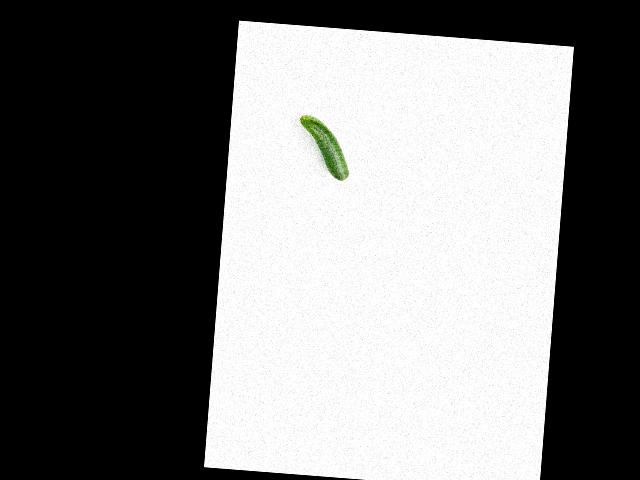cucumber: (295, 115, 352, 181)
